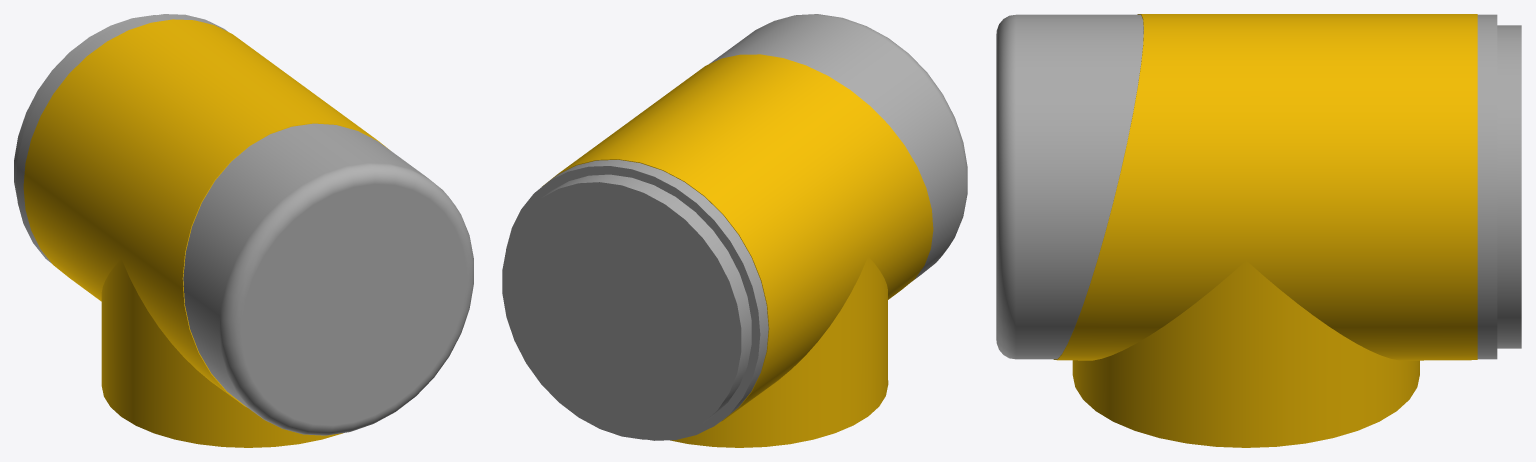
The picture shows the model from 3 angles, left to right: view 1: azimuth 30°, elevation 25°; view 2: azimuth 150°, elevation 25°; view 3: azimuth 270°, elevation 25°; orthographic projection. The views are drawn at different scales.
Parts seen in each view (by area): view 1: NONE; view 2: NONE; view 3: NONE.
Part boxes in pixels (x1=…): NONE: x1=14, y1=14, x2=473, y2=447; NONE: x1=502, y1=14, x2=967, y2=447; NONE: x1=996, y1=14, x2=1521, y2=447.
Bounding box in the file's own units: 0.089 × 0.0975 × 0.1345.
